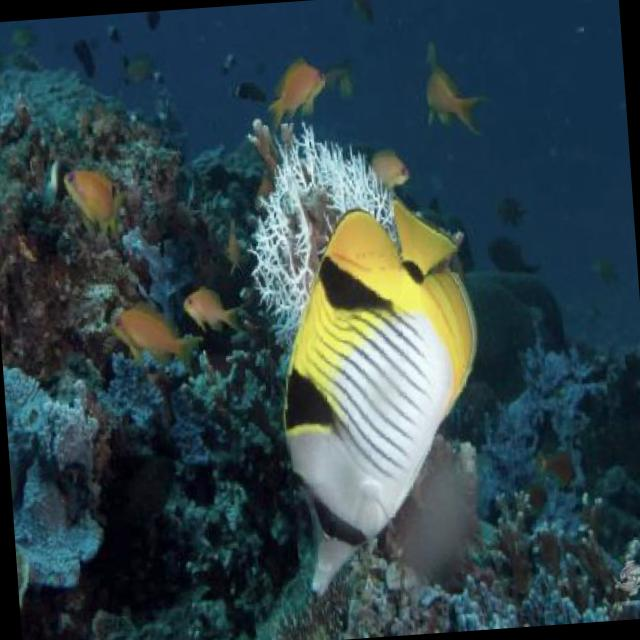ButterflyFish: (267, 193, 496, 596)
